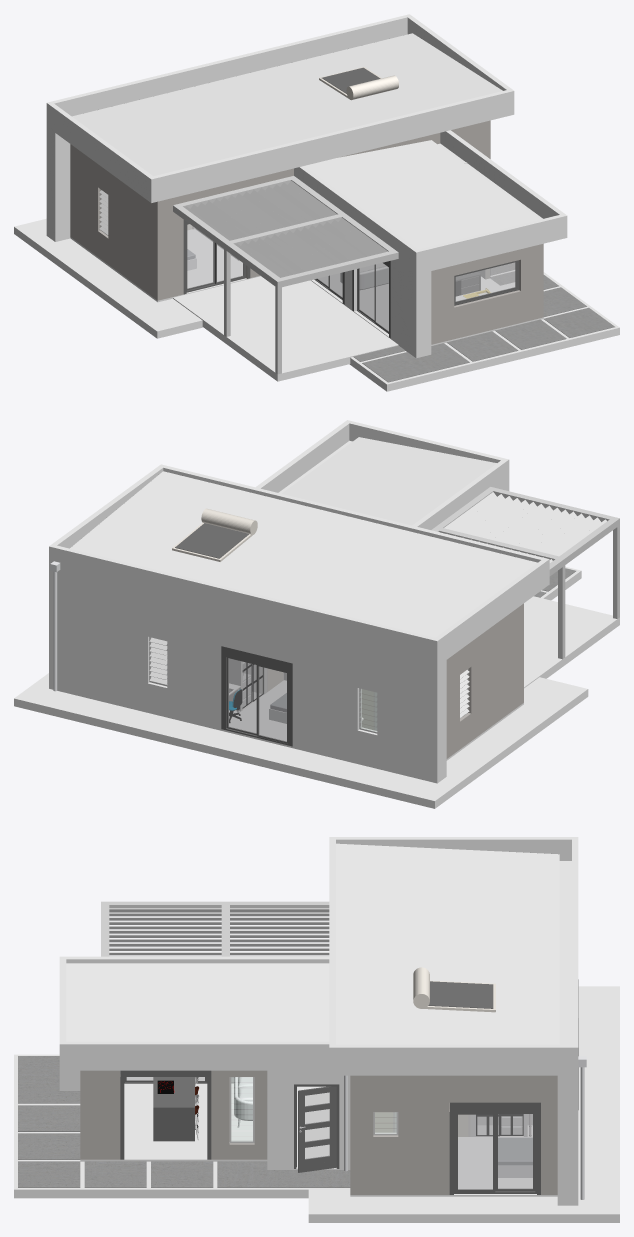
Rendered from MODERNHOME10.glb.
3 views of the same model, one above another, from view 1: azimuth 30°, elevation 25°; view 2: azimuth 150°, elevation 25°; view 3: azimuth 270°, elevation 25° (orthographic). The views are drawn at different scales.
Visible parts, largest first — view 1: Material7, Material1, Material2, Material9.002, Material51, Material5, Material4, Material13, Material6, Material12.001, Material12, Material15 (+2 smaller); view 2: Material1, Material7, Material5, Material9.002, Material2, Material51, Material13, Material12.001, Material15, Material12, Material6, Material9.003 (+2 smaller); view 3: Material7, Material1, Material2, Material5, Material4, Material9.002, Material6, Material13, Material12.001, Material9, Material41.001, Material3 (+8 smaller).
Part boxes in pixels (x1,y1,x2,y2): Material7: [72, 33, 539, 249]; Material1: [46, 14, 567, 381]; Material2: [70, 120, 543, 344]; Material9.002: [173, 176, 398, 374]; Material51: [173, 276, 398, 373]; Material5: [14, 218, 619, 391]; Material4: [353, 262, 614, 382]; Material13: [187, 224, 515, 331]; Material6: [186, 229, 499, 336]; Material12.001: [183, 220, 519, 337]; Material12: [187, 67, 517, 332]; Material15: [187, 67, 398, 229]; Material1: [49, 420, 619, 783]; Material7: [70, 437, 537, 637]; Material5: [14, 566, 588, 808]; Material9.002: [431, 487, 619, 659]; Material2: [446, 603, 523, 758]; Material51: [524, 596, 616, 687]; Material13: [228, 658, 286, 741]; Material12.001: [221, 646, 292, 746]; Material15: [172, 508, 373, 729]; Material12: [175, 523, 287, 743]; Material6: [152, 654, 286, 741]; Material9.003: [149, 637, 469, 733]; Material7: [66, 843, 559, 1044]; Material1: [59, 837, 578, 1205]; Material2: [80, 1070, 557, 1194]; Material5: [14, 986, 619, 1222]; Material4: [18, 1056, 350, 1187]; Material9.002: [101, 901, 329, 956]; Material6: [124, 1083, 536, 1194]; Material13: [126, 1077, 532, 1189]; Material12.001: [120, 1070, 540, 1194]; Material9: [109, 908, 396, 1142]; Material41.001: [294, 1084, 339, 1172]; Material3: [153, 1077, 194, 1141].
Size of the model in its own units: 13 by 4.62 by 14.6.
50 materials, 1 textured.
